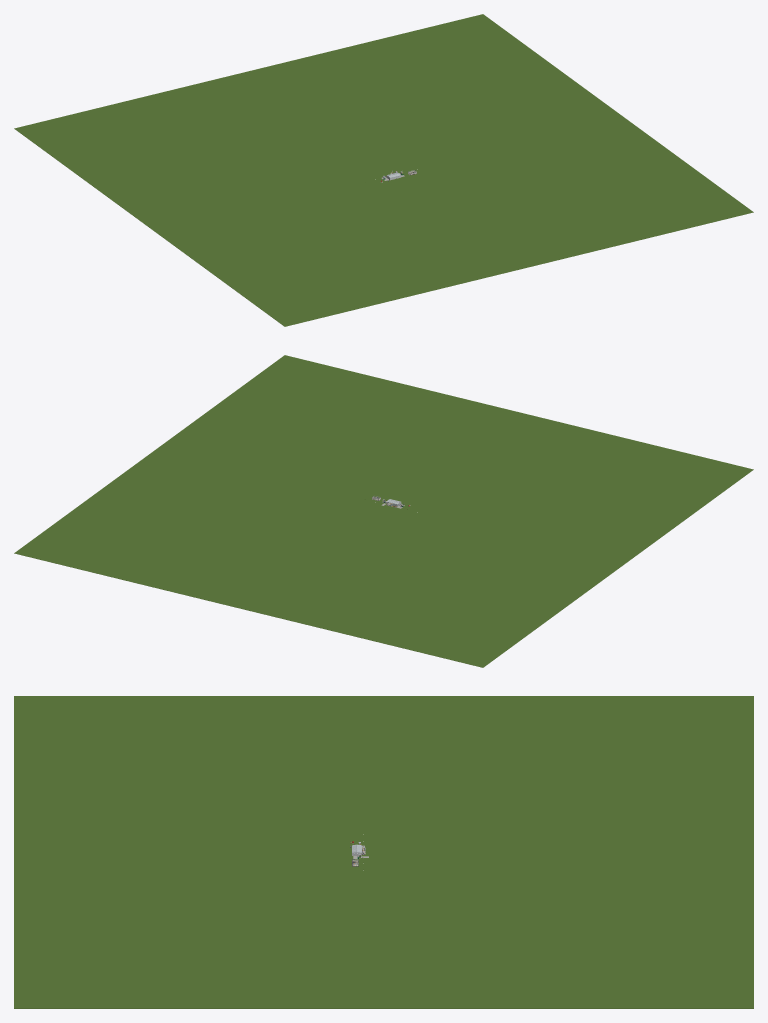
Rendered from planta_central.glb.
The picture shows the model from 3 angles, top to bottom: view 1: azimuth 30°, elevation 25°; view 2: azimuth 150°, elevation 25°; view 3: azimuth 270°, elevation 25°; orthographic projection. The views are drawn at different scales.
Parts seen in each view (by area): view 1: TERRENO Terreno natural con césped#0, TERRENO Terreno natural con césped#12, TERRENO Terreno natural con césped#6, TERRENO Terreno natural con césped#3, TERRENO Terreno natural con césped#9; view 2: TERRENO Terreno natural con césped#0, TERRENO Terreno natural con césped#12, TERRENO Terreno natural con césped#6, TERRENO Terreno natural con césped#3, TERRENO Terreno natural con césped#9; view 3: TERRENO Terreno natural con césped#0, TERRENO Terreno natural con césped#12, TERRENO Terreno natural con césped#6, TERRENO Terreno natural con césped#3, TERRENO Terreno natural con césped#9, TERRENO Terreno natural con césped#8, TERRENO Terreno natural con césped#11, TERRENO Terreno natural con césped#10, TERRENO Terreno natural con césped#7.
Boxes of the visible parts, x1,y1,x2,y2 form: TERRENO Terreno natural con césped#0: (14, 78, 492, 326); TERRENO Terreno natural con césped#12: (275, 14, 753, 262); TERRENO Terreno natural con césped#6: (233, 67, 534, 273); TERRENO Terreno natural con césped#3: (223, 75, 502, 275); TERRENO Terreno natural con césped#9: (265, 65, 544, 265); TERRENO Terreno natural con césped#0: (275, 419, 753, 667); TERRENO Terreno natural con césped#12: (14, 355, 492, 603); TERRENO Terreno natural con césped#6: (233, 408, 534, 614); TERRENO Terreno natural con césped#3: (265, 416, 544, 616); TERRENO Terreno natural con césped#9: (223, 406, 502, 606); TERRENO Terreno natural con césped#0: (14, 696, 753, 834); TERRENO Terreno natural con césped#12: (14, 870, 753, 1008); TERRENO Terreno natural con césped#6: (14, 842, 753, 862); TERRENO Terreno natural con césped#3: (14, 835, 753, 841); TERRENO Terreno natural con césped#9: (14, 863, 753, 869); TERRENO Terreno natural con césped#8: (364, 862, 753, 863); TERRENO Terreno natural con césped#11: (364, 869, 753, 870); TERRENO Terreno natural con césped#10: (14, 869, 362, 870); TERRENO Terreno natural con césped#7: (14, 862, 362, 863).
Size of the model in its own units: 1400 by 16.7 by 1400.
